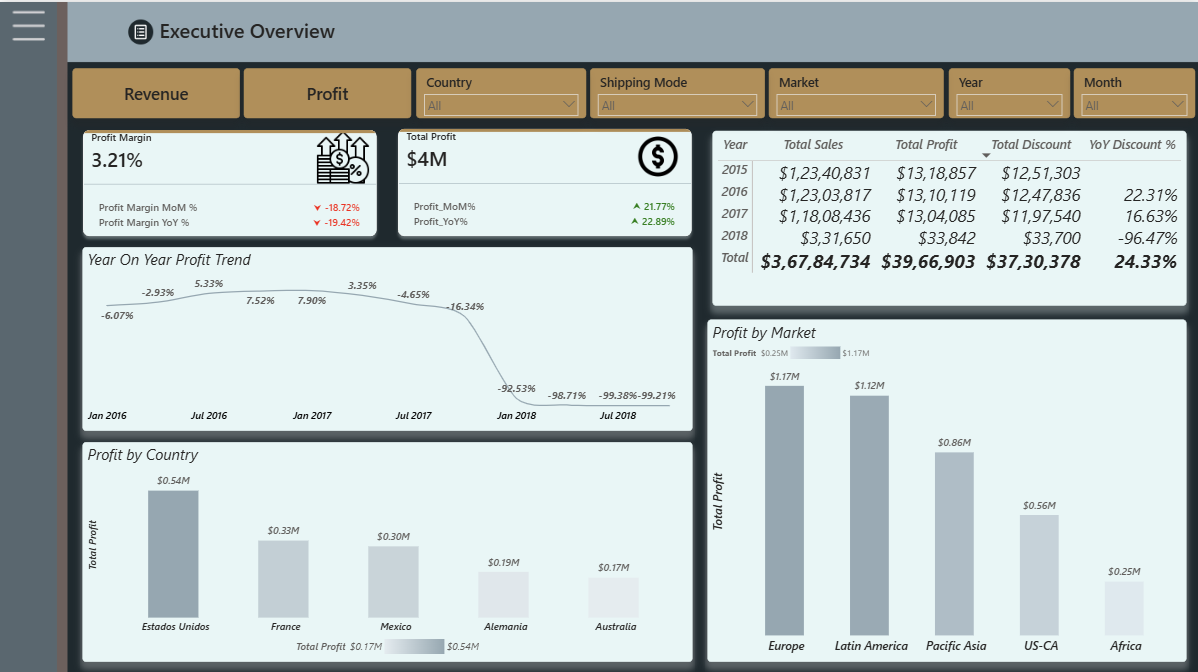

The page's visual inventory and layout, read from the dashboard file:
{"tool":"powerbi","page":{"name":"Executive Overview","canvas":[1920,1080],"ordinal":1},"visuals":[{"type":"actionButton","title":"Close Button Cover","box":[464,0,1456,1078],"z":0,"group":"g2"},{"type":"actionButton","title":"Revenue Button","box":[116,106,268,80],"z":0},{"type":"actionButton","title":"Operations & Shippings","box":[76,478,344,60],"z":0,"group":"g1"},{"type":"actionButton","title":"Close Button","box":[464,0,80,80],"z":1000,"group":"g2"},{"type":"actionButton","title":"Profit Button","box":[390.7,106,268,80],"z":1000},{"type":"actionButton","title":"Product Analysis","box":[76,389.5,344,60],"z":1000,"group":"g1"},{"type":"shape","title":"Page Navigation (Menu Bar)","box":[106,0,360,1078],"z":2000,"group":"g2"},{"type":"pivotTable","fields":{"Values":["Sum(gold fact_orders_cleaned_v2.sales)","Sum(gold fact_orders_cleaned_v2.order_profit_per_order)","Sum(gold fact_orders_cleaned_v2.order_item_discount)","Measure's Table.YoY Discount %"],"Rows":["gold fact_orders_cleaned_v2.order_date.Variation.Date Hierarchy.Year"]},"box":[1140,206,758,280],"z":2000},{"type":"actionButton","title":"Customer Analysis","box":[76,301,344,60],"z":2000,"group":"g1"},{"type":"group","id":"g1","title":"Pages","box":[76,124,344,414],"z":3000,"group":"g2"},{"type":"actionButton","title":"Executive Overview","box":[76,212.5,344,60],"z":3000,"group":"g1"},{"type":"actionButton","title":"Home","box":[76,124,344,60],"z":4000,"group":"g1"},{"type":"lineChart","title":"Year On Year Profit Trend","fields":{"Y":["Measure's Table.YoY %"],"Category":["gold fact_orders_cleaned_v2.order_date.Variation.Date Hierarchy.Year","gold fact_orders_cleaned_v2.order_date.Variation.Date Hierarchy.Quarter"]},"box":[132,392,976,294],"z":4000},{"type":"clusteredColumnChart","title":"Profit by Country","fields":{"Category":["gold fact_orders_cleaned_v2.order_country"],"Y":["Measure's Table.Total Profit"]},"box":[132,704,976,352],"z":5000},{"type":"clusteredColumnChart","title":"Profit by Market","fields":{"Category":["gold fact_orders_cleaned_v2.market"],"Y":["Measure's Table.Total Profit"]},"box":[1132,508,766,548],"z":8000},{"type":"cardVisual","title":"Total Profit Card","fields":{"Data":["Executive Measure.Total Profit"]},"box":[620,186,504,206],"z":8500},{"type":"textbox","box":[250,18,306,60],"z":9000},{"type":"image","box":[198,28,54,40],"z":10000},{"type":"slicer","fields":{"Values":["gold fact_orders_cleaned_v2.order_date.Variation.Date Hierarchy.Year"]},"box":[1517.3,106,194,80],"z":11000},{"type":"slicer","fields":{"Values":["gold fact_orders_cleaned_v2.order_date.Variation.Date Hierarchy.Month"]},"box":[1718,106,194,80],"z":12000},{"type":"slicer","fields":{"Values":["gold fact_orders_cleaned_v2.market"]},"box":[1230.7,106,280,80],"z":13000},{"type":"slicer","fields":{"Values":["gold fact_orders_cleaned_v2.shipping_mode"]},"box":[944,106,280,80],"z":14000},{"type":"slicer","fields":{"Values":["gold fact_orders_cleaned_v2.order_country"]},"box":[665.3,106,272,80],"z":15000},{"type":"cardVisual","title":"Profit Margin Card","fields":{"Data":["Executive Measure.Profit Margin %"]},"box":[116,188,504,204],"z":18000},{"type":"group","id":"g2","title":"Menu Objects","box":[76,0,1844,1078],"z":20250},{"type":"actionButton","title":"Menu Button","box":[15,7,60,60],"z":20500}]}

Visuals, with their boxes on the page's 1920x1080 design canvas (x1, y1, x2, y2). These are canvas units, not pixel positions in the 1198x672 screenshot, which may show the page scaled, cropped or inside an application window:
"Close Button Cover" actionButton: 464, 0, 1920, 1078
"Revenue Button" actionButton: 116, 106, 384, 186
"Operations & Shippings" actionButton: 76, 478, 420, 538
"Close Button" actionButton: 464, 0, 544, 80
"Profit Button" actionButton: 391, 106, 659, 186
"Product Analysis" actionButton: 76, 390, 420, 450
"Page Navigation (Menu Bar)" shape: 106, 0, 466, 1078
pivotTable - Sum(gold fact_orders_cleaned_v2.sales) x Sum(gold fact_orders_cleaned_v2.order_profit_per_order): 1140, 206, 1898, 486
"Customer Analysis" actionButton: 76, 301, 420, 361
"Pages" group: 76, 124, 420, 538
"Executive Overview" actionButton: 76, 212, 420, 272
"Home" actionButton: 76, 124, 420, 184
"Year On Year Profit Trend" lineChart: 132, 392, 1108, 686
"Profit by Country" clusteredColumnChart: 132, 704, 1108, 1056
"Profit by Market" clusteredColumnChart: 1132, 508, 1898, 1056
"Total Profit Card" cardVisual: 620, 186, 1124, 392
textbox: 250, 18, 556, 78
image: 198, 28, 252, 68
slicer - gold fact_orders_cleaned_v2.order_date.Variation.Date Hierarchy.Year: 1517, 106, 1711, 186
slicer - gold fact_orders_cleaned_v2.order_date.Variation.Date Hierarchy.Month: 1718, 106, 1912, 186
slicer - gold fact_orders_cleaned_v2.market: 1231, 106, 1511, 186
slicer - gold fact_orders_cleaned_v2.shipping_mode: 944, 106, 1224, 186
slicer - gold fact_orders_cleaned_v2.order_country: 665, 106, 937, 186
"Profit Margin Card" cardVisual: 116, 188, 620, 392
"Menu Objects" group: 76, 0, 1920, 1078
"Menu Button" actionButton: 15, 7, 75, 67
